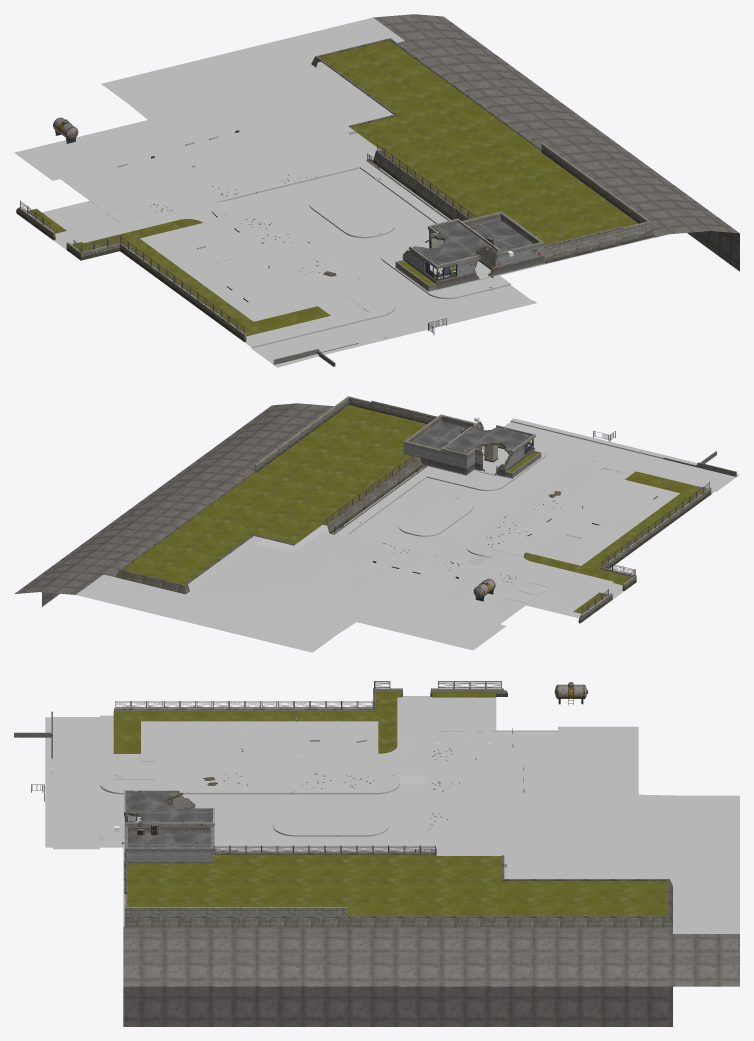
File: hospital.fbx
3 renders of one model, top to bottom at view 1: azimuth 30°, elevation 25°; view 2: azimuth 150°, elevation 25°; view 3: azimuth 270°, elevation 25°, orthographic. The views are drawn at different scales.
Visible parts, largest first — view 1: Hospital_STR_Base, Bg_Hospital_STR_Base_Wall_01_Grass, Bg_Hospital_STR_Base_Wall_01_2, Hospital_STR_House_04, Bg_Hospital_STR_Base_Wall_02_Grass, Hospital_STR_House_04_Roof, Bg_Hospital_STR_Base_Wall_02_2; view 2: Hospital_STR_Base, Bg_Hospital_STR_Base_Wall_01_Grass, Bg_Hospital_STR_Base_Wall_01_2, Hospital_STR_House_04, Bg_Hospital_STR_Base_Wall_02_Grass, Hospital_STR_House_04_Roof, Bg_Hospital_STR_Base_Wall_02_2; view 3: Hospital_STR_Base, Bg_Hospital_STR_Base_Wall_01_Grass, Bg_Hospital_STR_Base_Wall_01_2, Bg_Hospital_STR_Base_Wall_02_Grass, Hospital_STR_House_04, Hospital_STR_House_04_Roof, Bg_Hospital_STR_Base_Wall_02_2.
Boxes of the visible parts, bbox=[...] form: Hospital_STR_Base: bbox=[14, 17, 654, 367]; Bg_Hospital_STR_Base_Wall_01_Grass: bbox=[319, 14, 739, 271]; Bg_Hospital_STR_Base_Wall_01_2: bbox=[311, 38, 654, 263]; Hospital_STR_House_04: bbox=[395, 211, 544, 291]; Bg_Hospital_STR_Base_Wall_02_Grass: bbox=[28, 208, 330, 336]; Hospital_STR_House_04_Roof: bbox=[408, 218, 500, 277]; Bg_Hospital_STR_Base_Wall_02_2: bbox=[16, 207, 246, 342]; Hospital_STR_Base: bbox=[76, 418, 739, 652]; Bg_Hospital_STR_Base_Wall_01_Grass: bbox=[14, 403, 426, 606]; Bg_Hospital_STR_Base_Wall_01_2: bbox=[116, 396, 437, 594]; Hospital_STR_House_04: bbox=[403, 414, 541, 477]; Bg_Hospital_STR_Base_Wall_02_Grass: bbox=[523, 471, 707, 613]; Hospital_STR_House_04_Roof: bbox=[441, 421, 535, 457]; Bg_Hospital_STR_Base_Wall_02_2: bbox=[578, 488, 711, 623]; Hospital_STR_Base: bbox=[45, 696, 739, 933]; Bg_Hospital_STR_Base_Wall_01_Grass: bbox=[123, 854, 739, 1026]; Bg_Hospital_STR_Base_Wall_01_2: bbox=[124, 852, 672, 926]; Bg_Hospital_STR_Base_Wall_02_Grass: bbox=[113, 691, 495, 753]; Hospital_STR_House_04: bbox=[122, 795, 214, 863]; Hospital_STR_House_04_Roof: bbox=[124, 790, 214, 826]; Bg_Hospital_STR_Base_Wall_02_2: bbox=[114, 688, 507, 710].
Size of the model in its own units: 8300 by 1567 by 9300.
